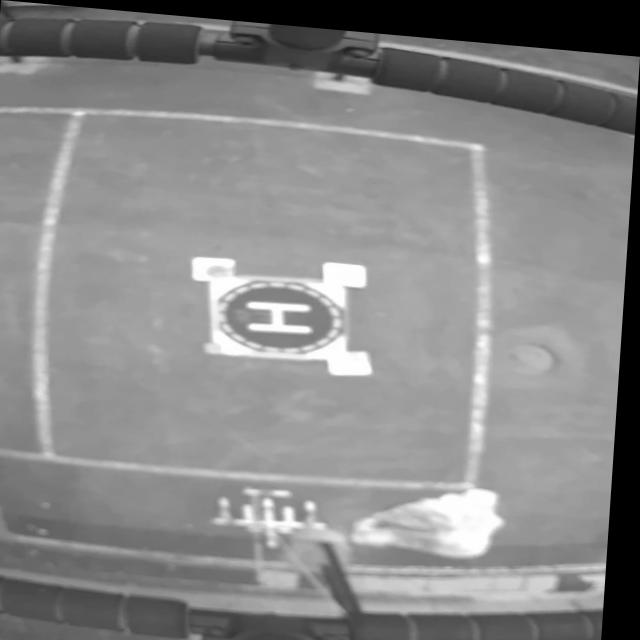Helipad: (242, 295, 316, 328)
